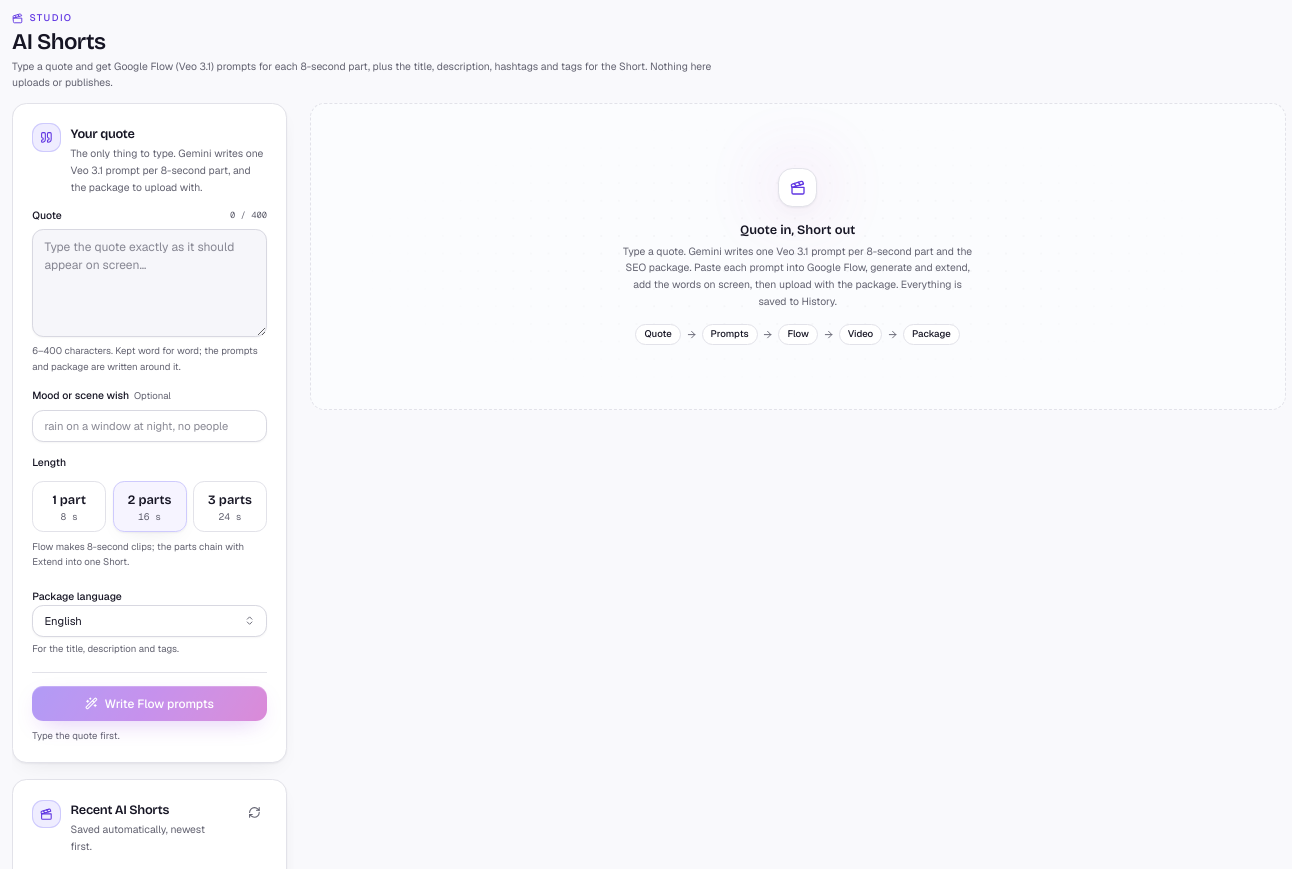
Test: AI Shorts form › explains the flow before the first run and keeps the button disabled with the reason
This screenshot has width=1292, height=869.
Expected: the heading "AI Shorts" is shown, [12,28,106,55]
Expected: the text "Quote in, Short out" is shown, [740,222,855,237]
In the text box labelled "Quote": (150, 283) [32,229,267,337], type "Short"
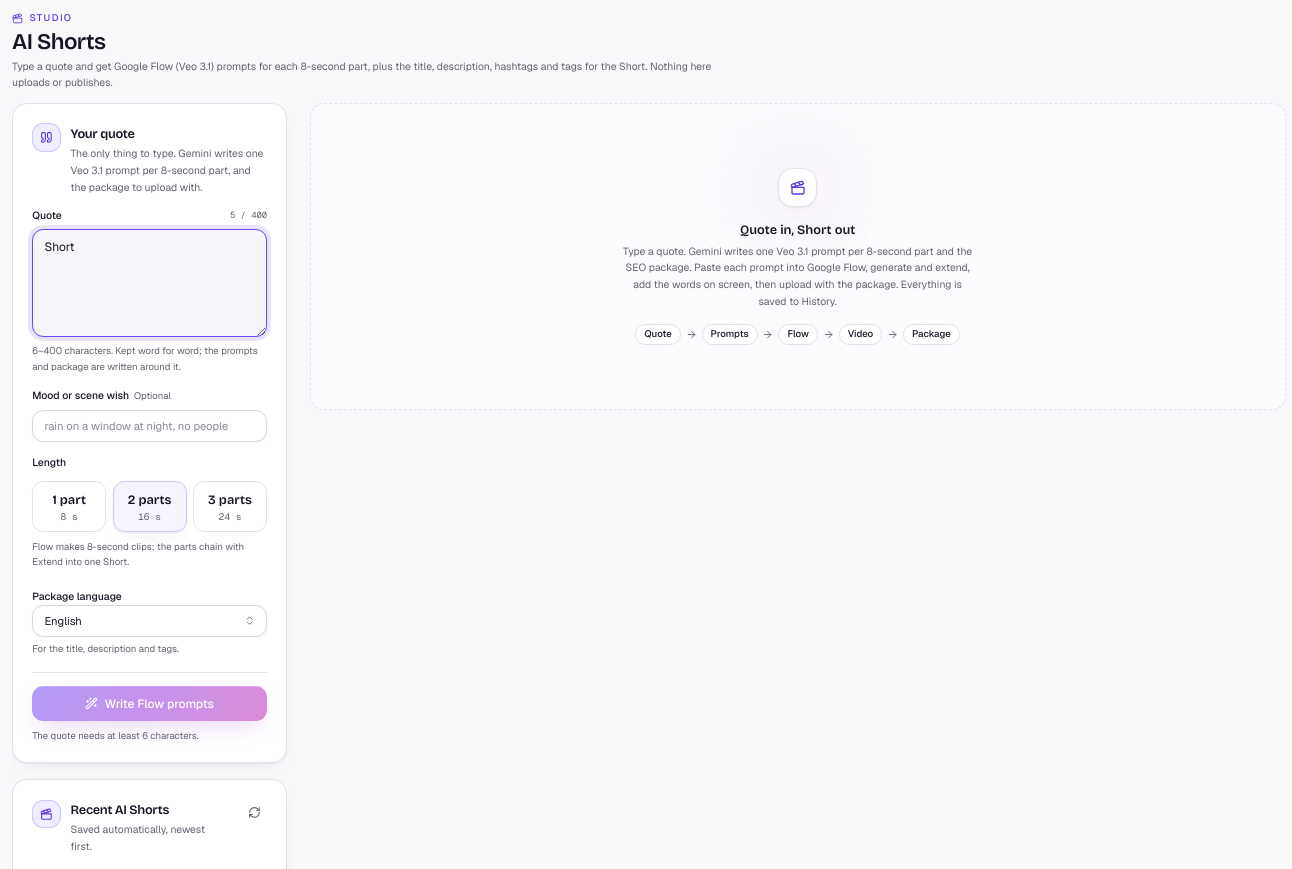
Expected: the button "Write Flow prompts" is disabled, [32,686,267,721]
In the text box labelled "Quote": (150, 283) [32,229,267,337], type " words"
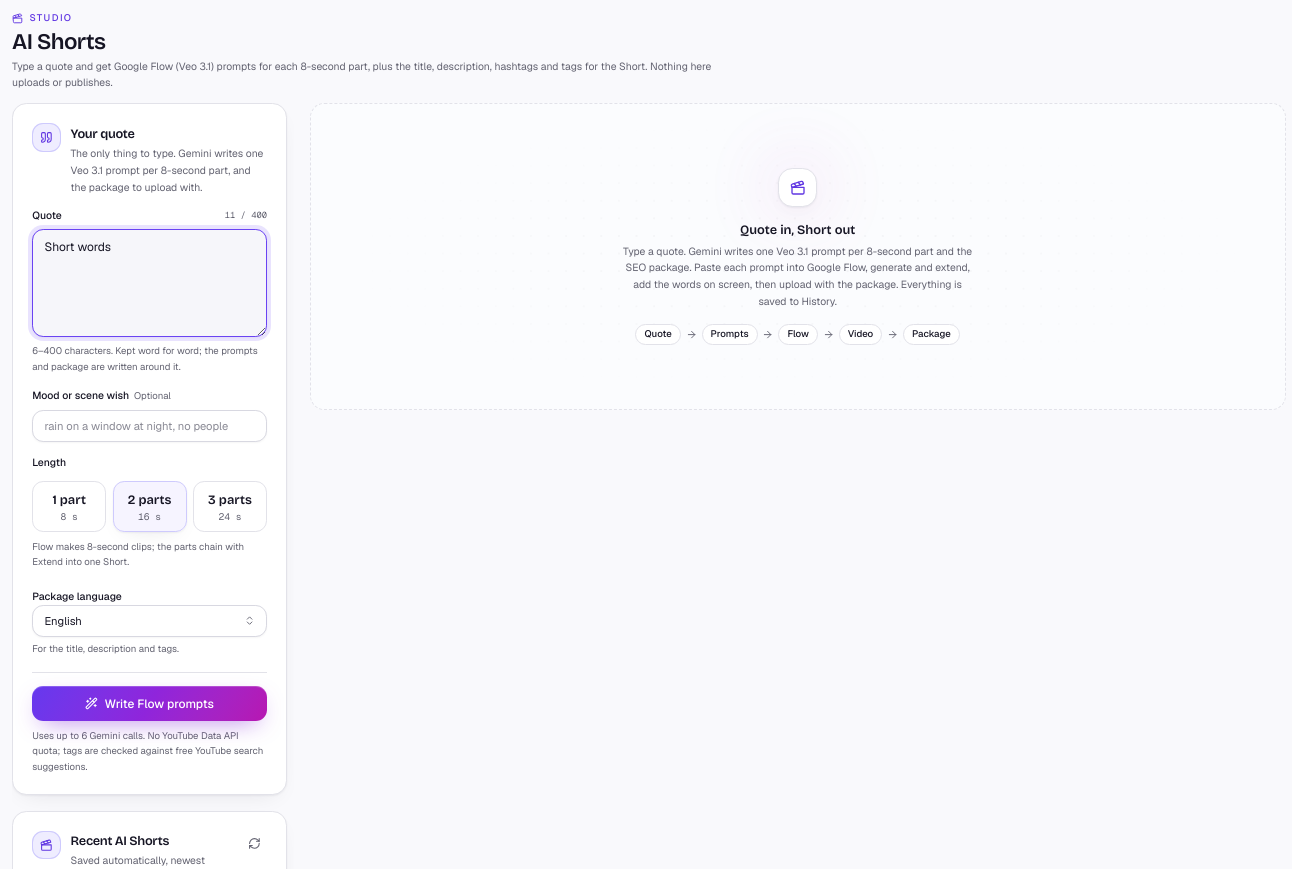
Now the button "Write Flow prompts" is enabled, box [32,686,267,721]
